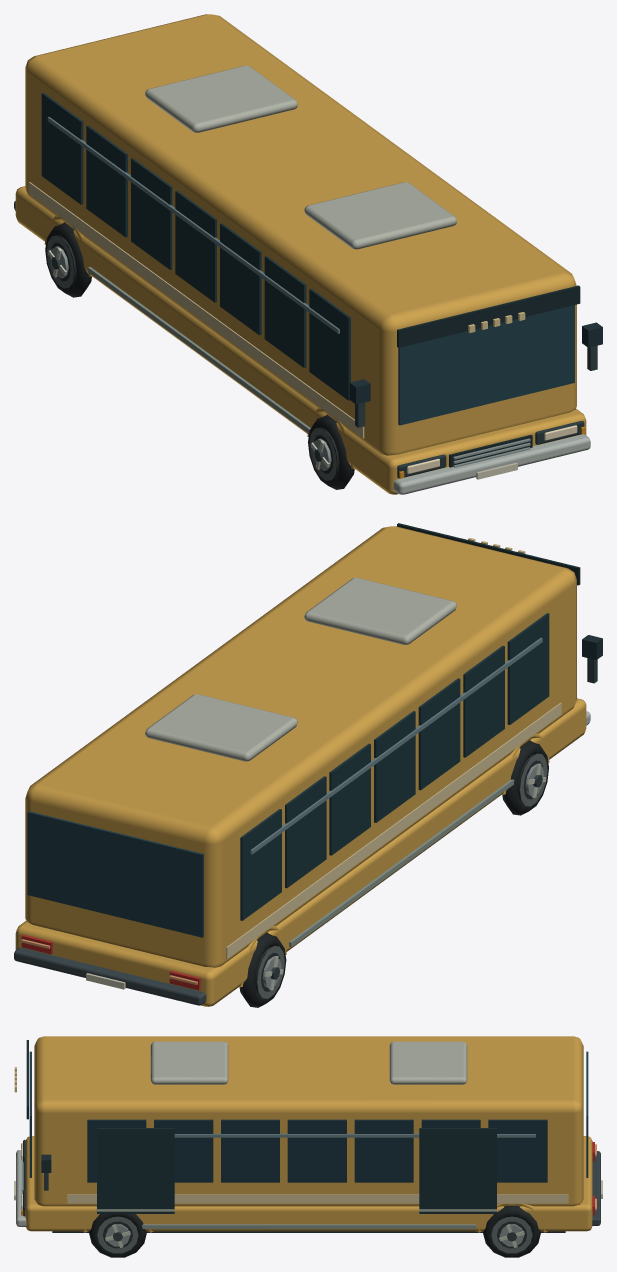
File: bus.glb
The picture shows the model from 3 angles, top to bottom: view 1: azimuth 30°, elevation 25°; view 2: azimuth 150°, elevation 25°; view 3: azimuth 270°, elevation 25°; orthographic projection. The views are drawn at different scales.
Parts seen in each view (by area): view 1: bus_body; view 2: bus_body; view 3: bus_body.
Boxes of the visible parts, x1=… form: bus_body: x1=14, y1=14, x2=602, y2=494; bus_body: x1=14, y1=523, x2=602, y2=1007; bus_body: x1=14, y1=1036, x2=602, y2=1257.
Size of the model in its own units: 2.87 by 2.41 by 7.89.
